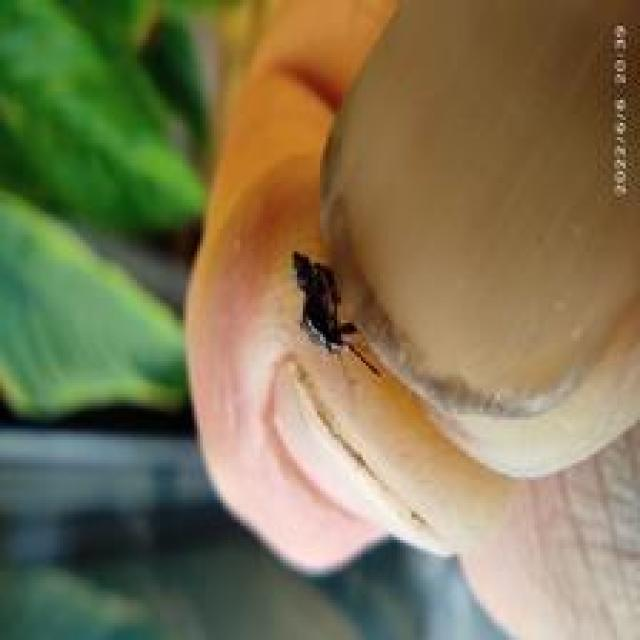Aedes albopictus: (290, 248, 384, 383)
